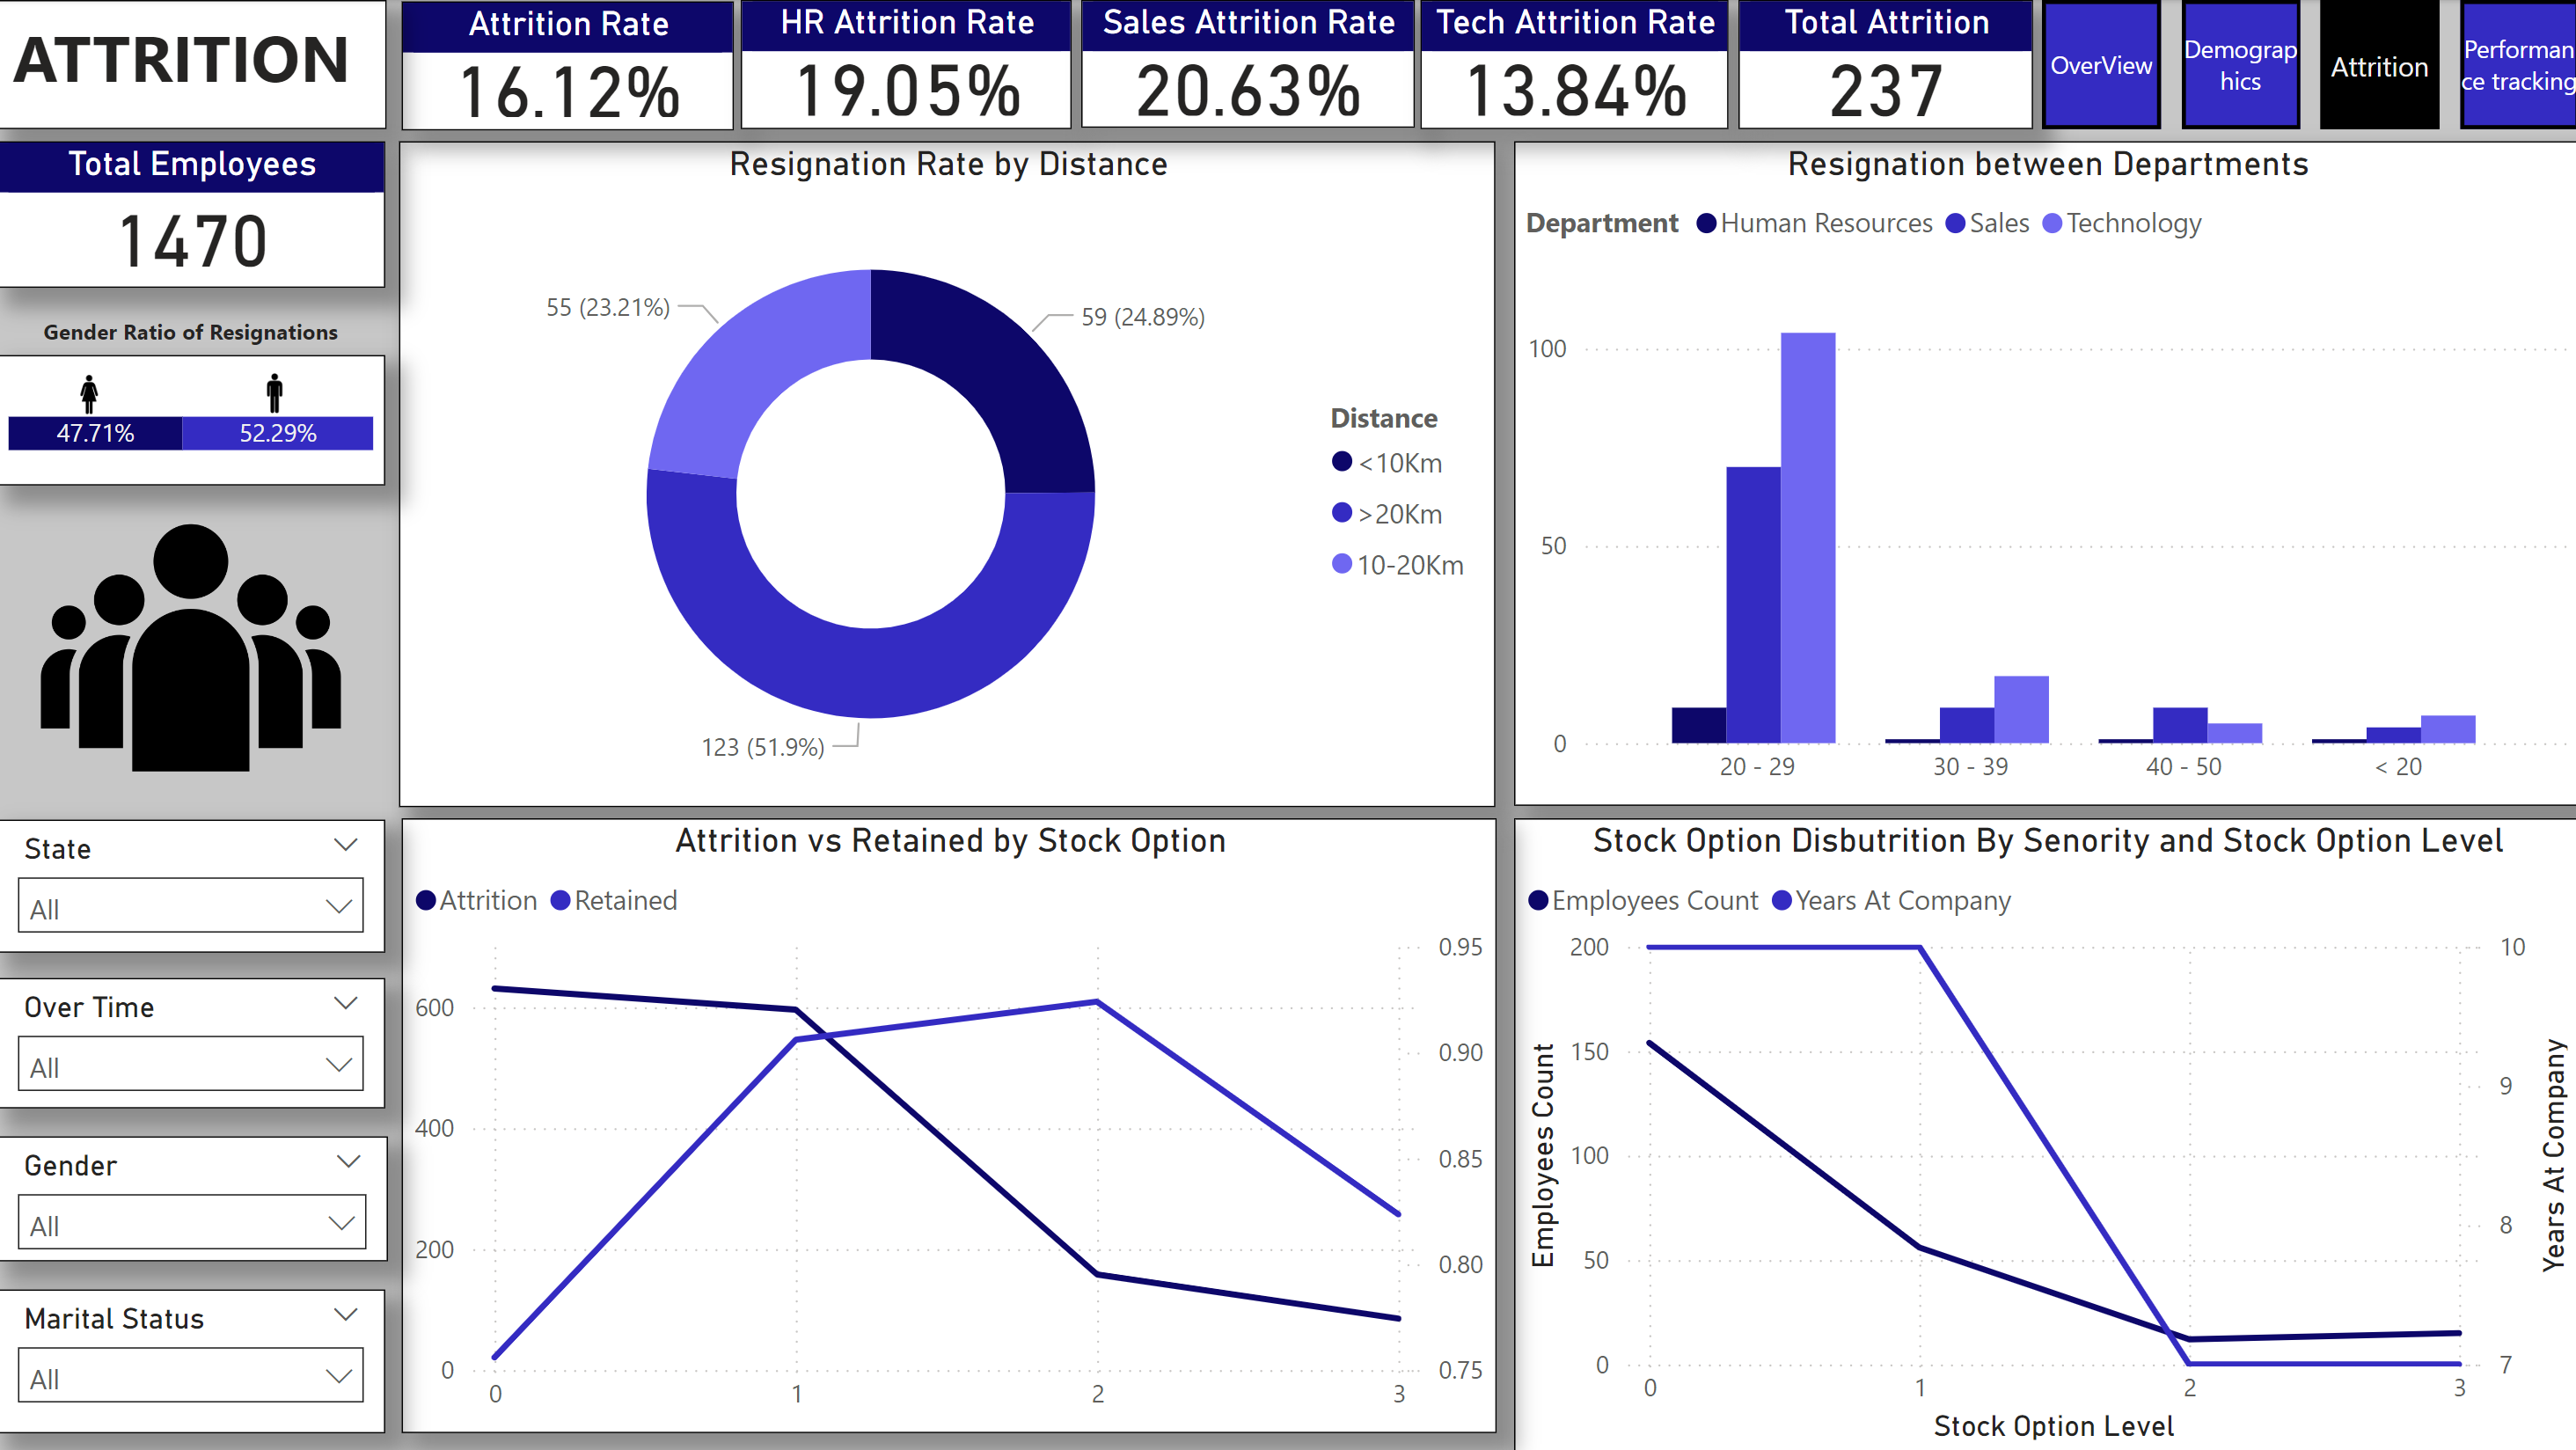

What the dashboard file says about the page in this screenshot:
{"tool":"powerbi","page":{"name":"Attrition","canvas":[1280,720],"ordinal":2},"visuals":[{"type":"donutChart","title":"Resignation Rate by Distance","fields":{"Y":["CountNonNull(Employee.EmployeeID)"],"Series":["Employee.Distance"]},"box":[199.6,70.2,543.7,330.3],"z":0},{"type":"lineClusteredColumnComboChart","title":"Resignation between Departments","fields":{"Category":["Employee.AgeGroup"],"Y":["CountNonNull(Employee.EmployeeID)"],"Series":["Employee.Department"]},"box":[752.2,70.2,528.3,329.3],"z":1000},{"type":"lineChart","title":"Stock Option Disbutrition By Senority and Stock Option Level","fields":{"Category":["Employee.StockOptionLevel"],"Y":["CountNonNull(Employee.EmployeeID)"],"Y2":["Count(Employee.YearsAtCompany)"]},"box":[752.2,405.4,528.3,314.6],"z":2000},{"type":"card","title":"Attrition Rate","fields":{"Values":["calculate.Attrition_Rate"]},"box":[200.8,0.4,164.6,63.8],"z":3000},{"type":"textbox","box":[0,0,193.2,63.8],"z":4000},{"type":"card","title":"HR Attrition Rate","fields":{"Values":["calculate.Attrition_Rate"]},"box":[368.9,0,164.2,63.8],"z":5000},{"type":"card","title":"Sales Attrition Rate","fields":{"Values":["calculate.Attrition_Rate"]},"box":[537.4,0,165.4,63.4],"z":6000},{"type":"card","title":"Tech Attrition Rate","fields":{"Values":["calculate.Attrition_Rate"]},"box":[705.5,0,152.9,63.8],"z":7000},{"type":"lineChart","title":"Attrition vs Retained by Stock Option","fields":{"Y":["CountNonNull(Employee.Attrition)"],"Category":["Employee.StockOptionLevel"],"Y2":["calculate.%_of_Attrition_Rate_No"]},"box":[200.5,405.4,542.9,304.4],"z":8000},{"type":"hundredPercentStackedBarChart","title":"Ratio of Gender","fields":{"Series":["Employee.Gender"],"Y":["CountNonNull(Employee.EmployeeID)"]},"box":[0,176.2,192.7,64.7],"z":9000},{"type":"image","box":[20.5,180.3,50.8,29.5],"z":10000},{"type":"image","box":[110.7,179.5,54.9,31.1],"z":11000},{"type":"textbox","box":[0,148.6,192.7,42.7],"z":12000},{"type":"slicer","fields":{"Values":["Employee.State"]},"box":[0,406,192.7,66.1],"z":13000},{"type":"slicer","fields":{"Values":["Employee.OverTime"]},"box":[0,484.5,192.7,64.7],"z":14000},{"type":"card","title":"Total Attrition","fields":{"Values":["Count(Employee.EmployeeID)"]},"box":[863.2,0,146.2,64.2],"z":15000},{"type":"slicer","fields":{"Values":["Employee.Gender"]},"box":[0,562.9,194.1,61.9],"z":16000},{"type":"slicer","fields":{"Values":["Employee.MaritalStatus"]},"box":[0,638.6,192.7,71.6],"z":17000},{"type":"pageNavigator","box":[1013.6,0,266.4,64.1],"z":18000},{"type":"card","title":"Total Employees","fields":{"Values":["calculate.Total_Employee"]},"box":[0,70.2,192.7,72.9],"z":19000},{"type":"image","box":[0,241,193,159],"z":20000}]}

Visuals, with their boxes in screenshot pixels (x1, y1, x2, y2), scaled from the page's 1280x720 canvas onto the 2576x1450 screenshot:
"Resignation Rate by Distance" donutChart: Rect(402, 142, 1496, 807)
"Resignation between Departments" lineClusteredColumnComboChart: Rect(1514, 142, 2575, 804)
"Stock Option Disbutrition By Senority and Stock Option Level" lineChart: Rect(1514, 817, 2575, 1449)
"Attrition Rate" card: Rect(404, 1, 735, 129)
textbox: Rect(0, 0, 389, 128)
"HR Attrition Rate" card: Rect(743, 0, 1072, 128)
"Sales Attrition Rate" card: Rect(1081, 0, 1415, 128)
"Tech Attrition Rate" card: Rect(1420, 0, 1728, 128)
"Attrition vs Retained by Stock Option" lineChart: Rect(404, 817, 1497, 1430)
"Ratio of Gender" hundredPercentStackedBarChart: Rect(0, 355, 388, 485)
image: Rect(41, 363, 143, 422)
image: Rect(223, 362, 333, 424)
textbox: Rect(0, 299, 388, 385)
slicer - Employee.State: Rect(0, 817, 388, 951)
slicer - Employee.OverTime: Rect(0, 976, 388, 1106)
"Total Attrition" card: Rect(1738, 0, 2031, 129)
slicer - Employee.Gender: Rect(0, 1133, 391, 1258)
slicer - Employee.MaritalStatus: Rect(0, 1286, 388, 1431)
pageNavigator: Rect(2040, 0, 2575, 129)
"Total Employees" card: Rect(0, 142, 388, 289)
image: Rect(0, 486, 388, 806)
